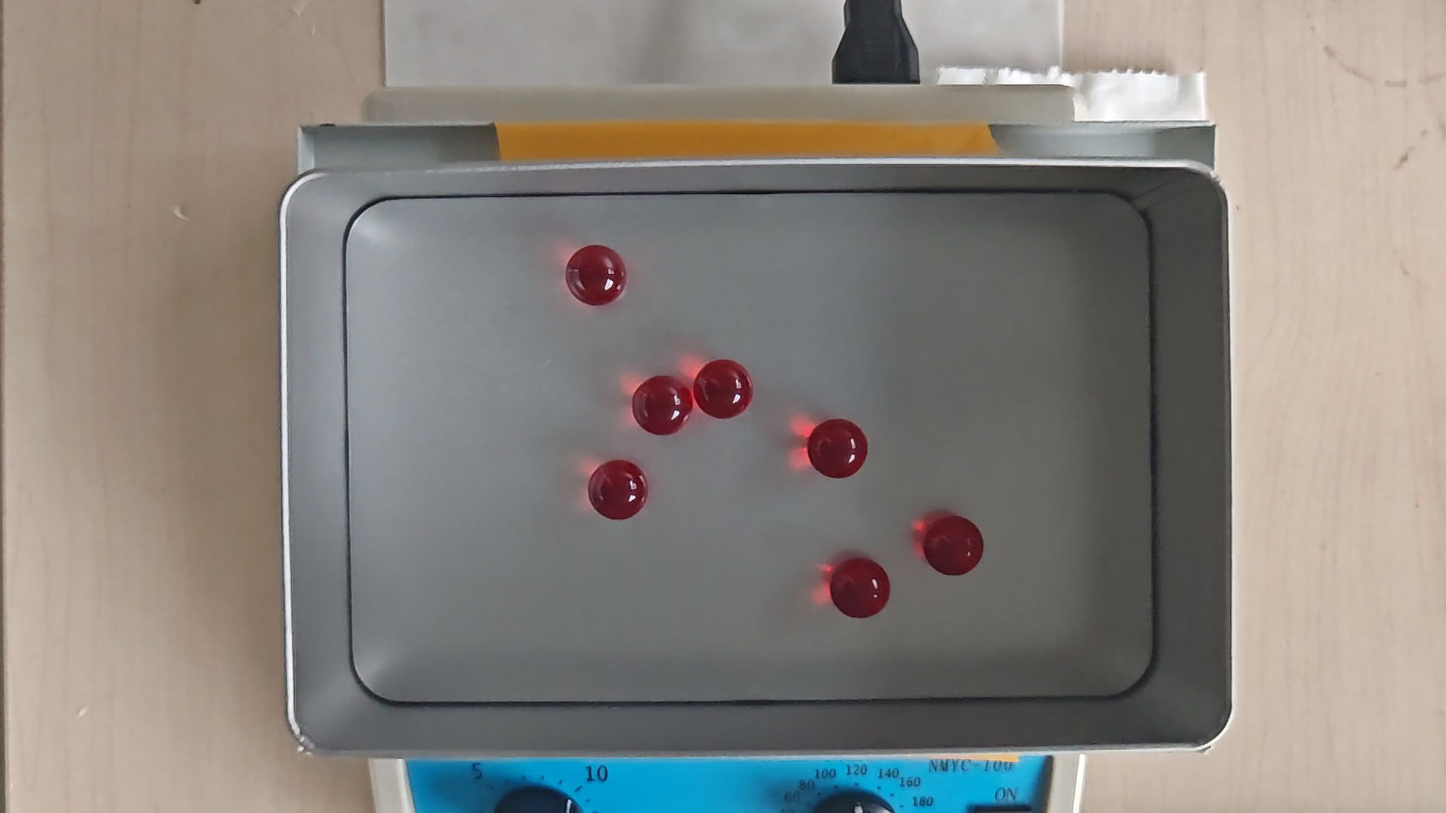ball: (632, 374, 693, 437), (565, 245, 626, 306), (808, 418, 869, 478), (696, 358, 754, 419), (832, 558, 889, 619), (589, 460, 646, 520), (926, 516, 982, 574)
container: (340, 193, 1155, 705)
